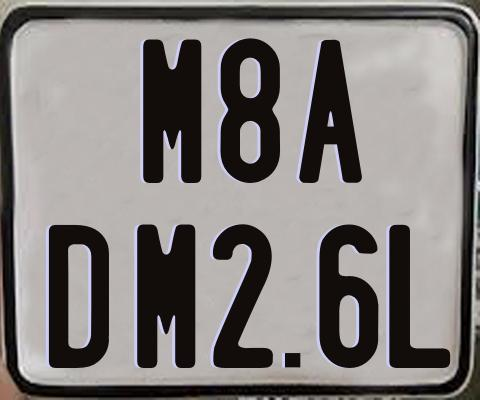2: (210, 221, 271, 370)
6: (319, 222, 382, 367)
8: (219, 37, 280, 187)
A: (298, 37, 366, 186)
D: (48, 222, 111, 367)
L: (388, 223, 454, 366)
M: (140, 38, 203, 188), (134, 223, 195, 367)
